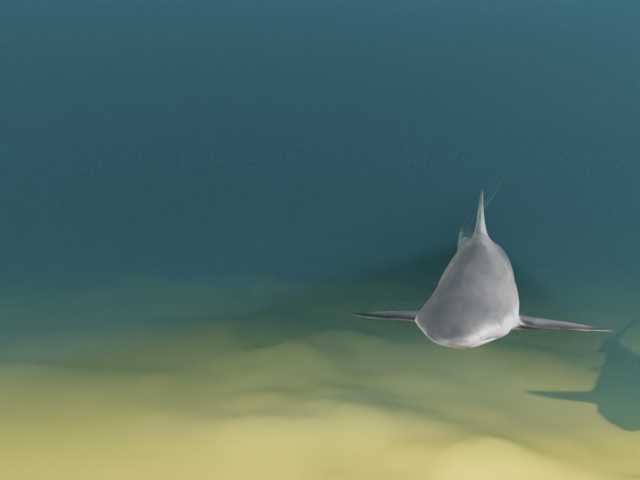Carribean Shark.001: (349, 178, 611, 348)
